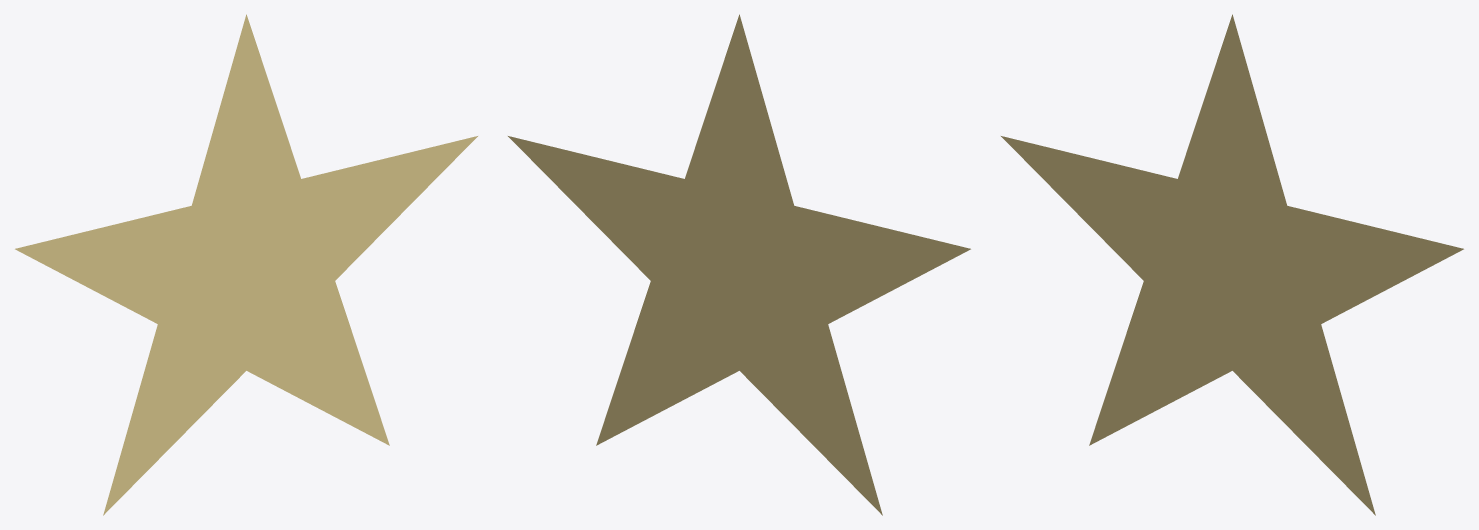
Rendered from Star.fbx.
3 renders of one model, left to right at view 1: azimuth 30°, elevation 25°; view 2: azimuth 150°, elevation 25°; view 3: azimuth 330°, elevation 25°, orthographic.
Parts seen in each view (by area): view 1: Empty_Mesh; view 2: Empty_Mesh; view 3: Empty_Mesh.
Boxes of the visible parts, x1=… form: Empty_Mesh: x1=15, y1=14, x2=477, y2=515; Empty_Mesh: x1=508, y1=14, x2=970, y2=515; Empty_Mesh: x1=1001, y1=14, x2=1463, y2=515.
Size of the model in its own units: 53.27 by 51.2 by 6.52e-15.
